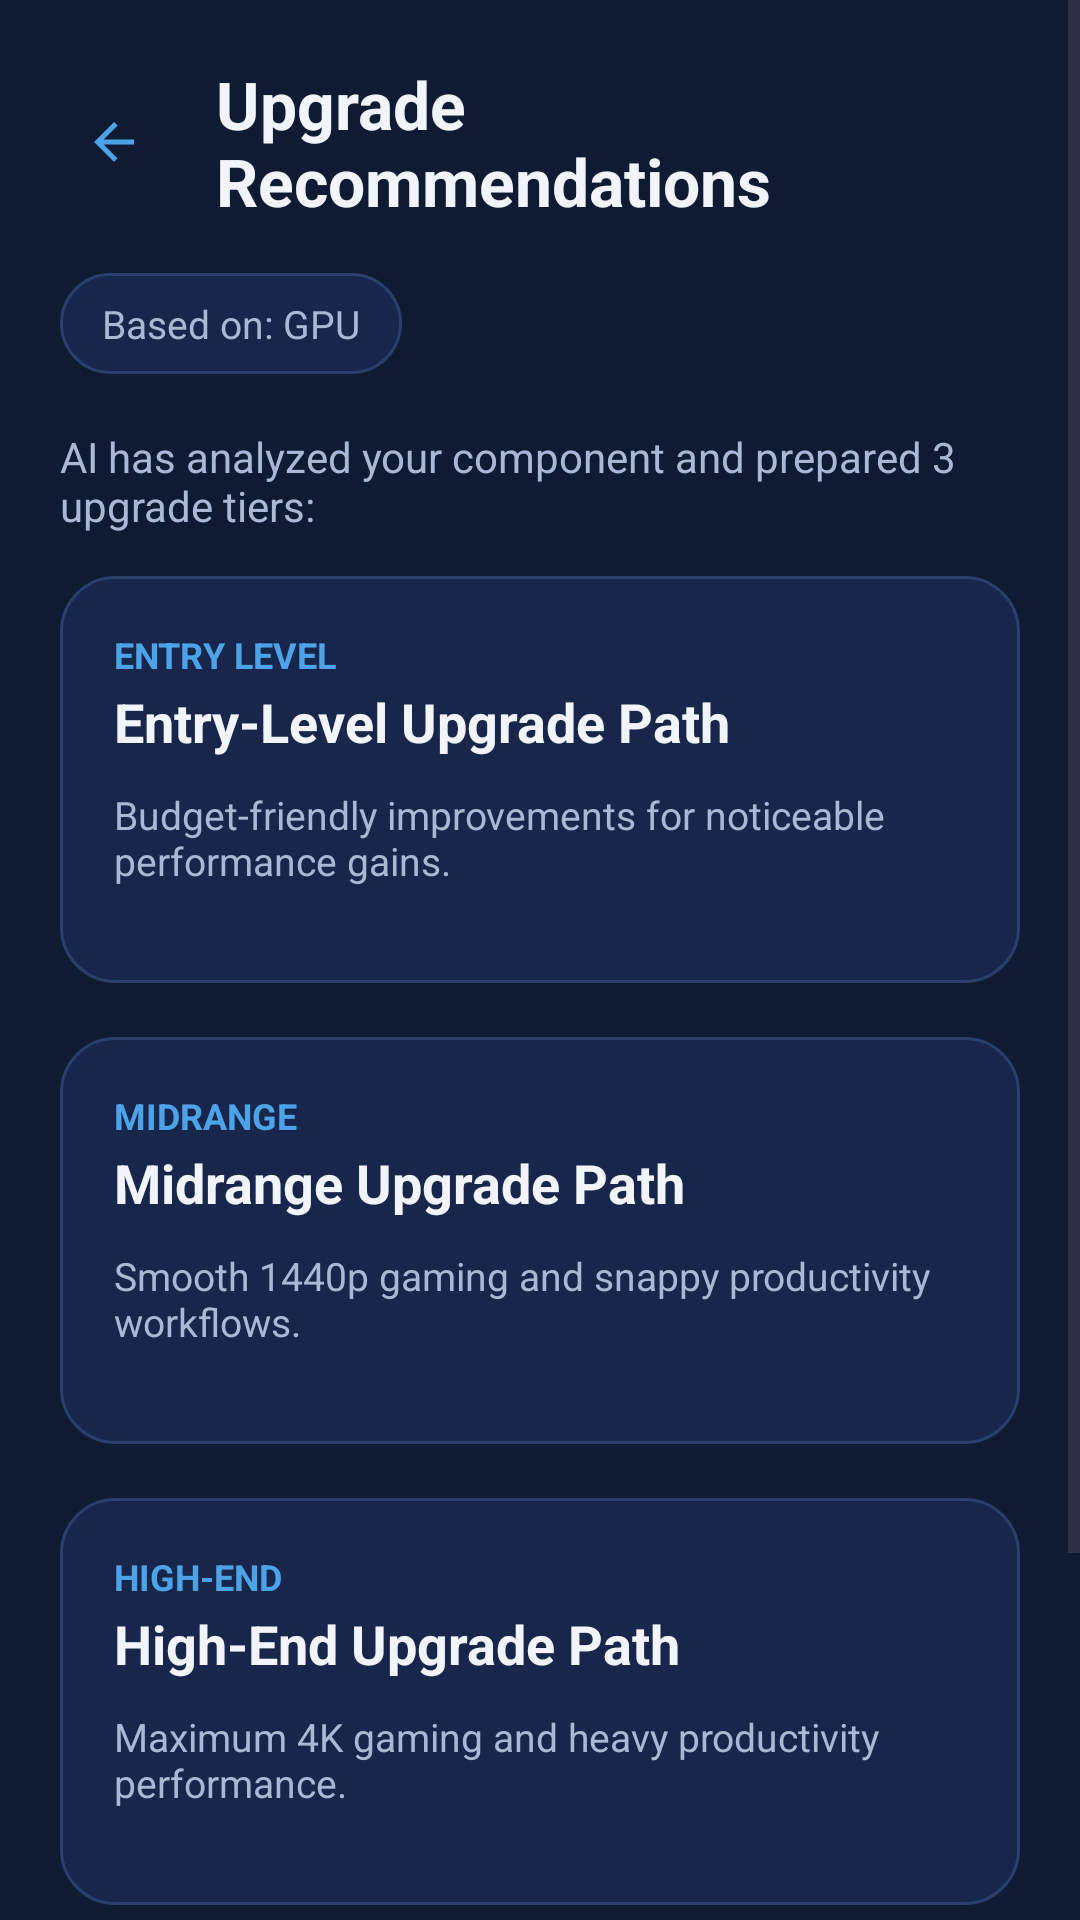

Icons on this 1080 x 1920 Android screen, each with its box as [left=x1, top=y1, right=x2, bottom=y2]:
arrow back: [left=94, top=122, right=134, bottom=162]
